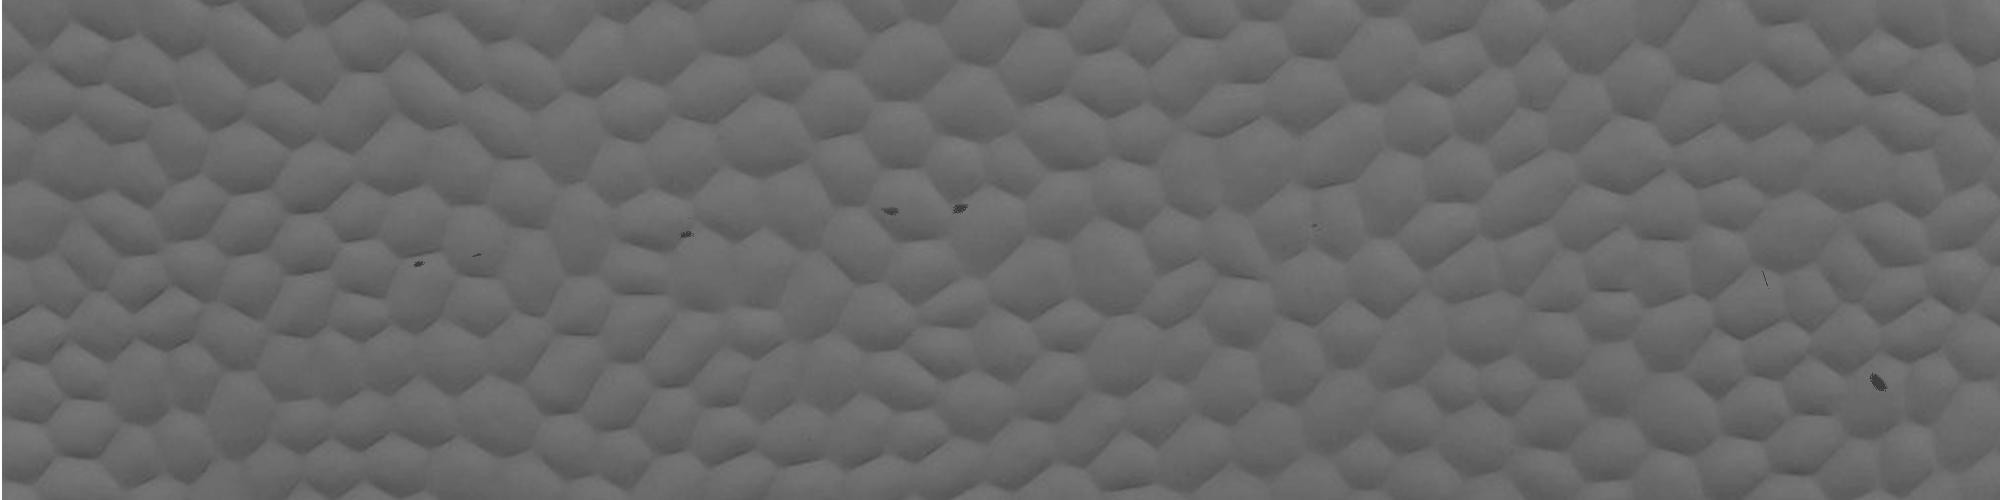Decomposed: (943, 194, 983, 226), (878, 196, 906, 221), (403, 253, 431, 276), (458, 246, 491, 261), (673, 230, 703, 244)
